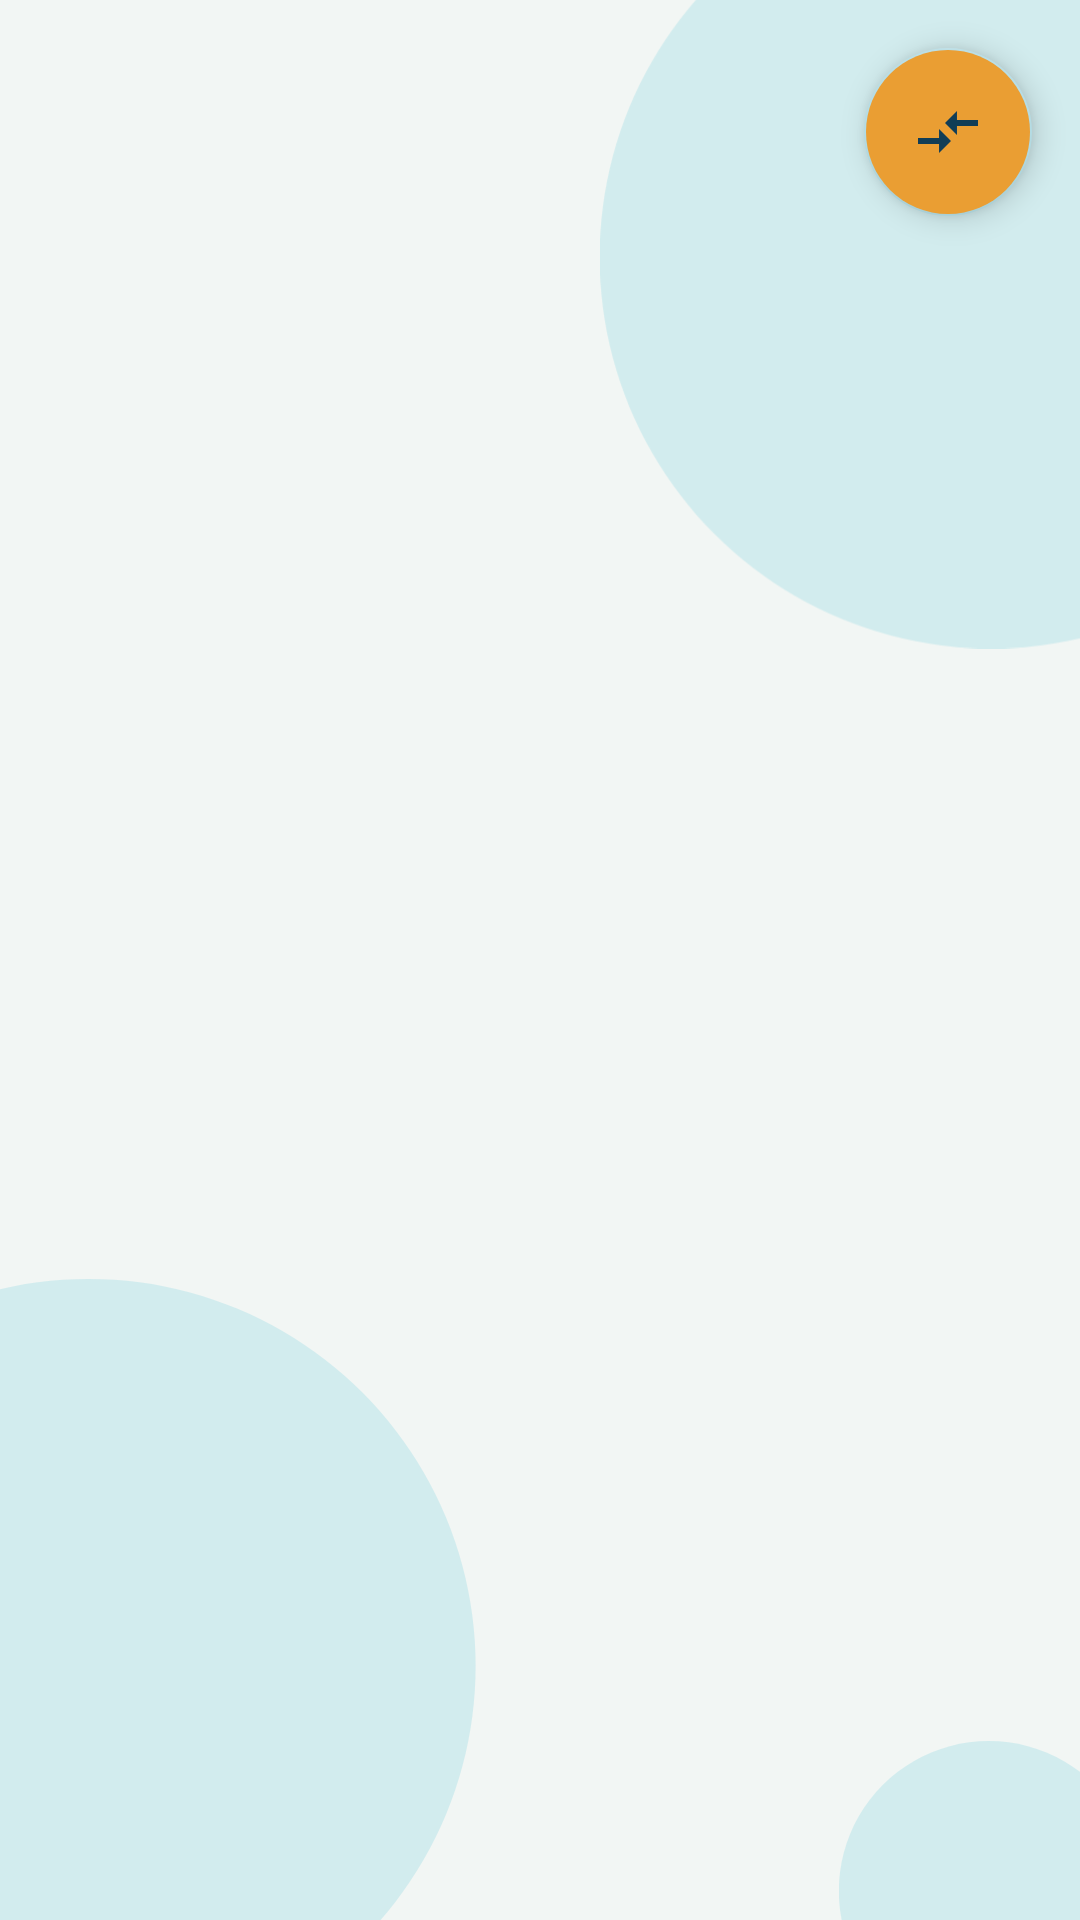

Screen size 1080w x 1920h. Icon name, then its center in pixels as (x=x, y=y):
compare arrows: (x=948, y=133)
